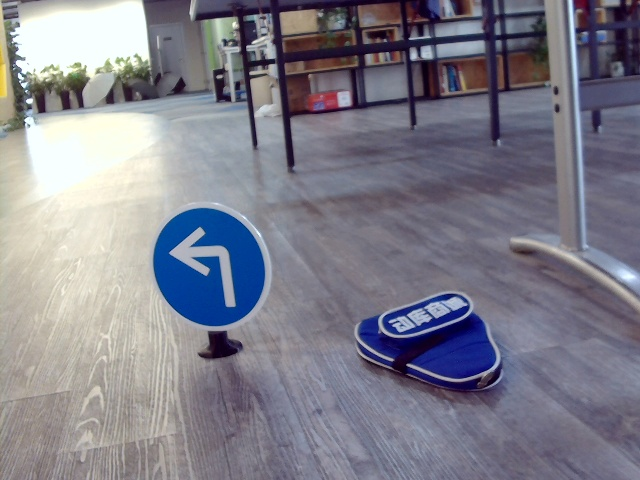turn_left: (164, 222, 242, 311)
